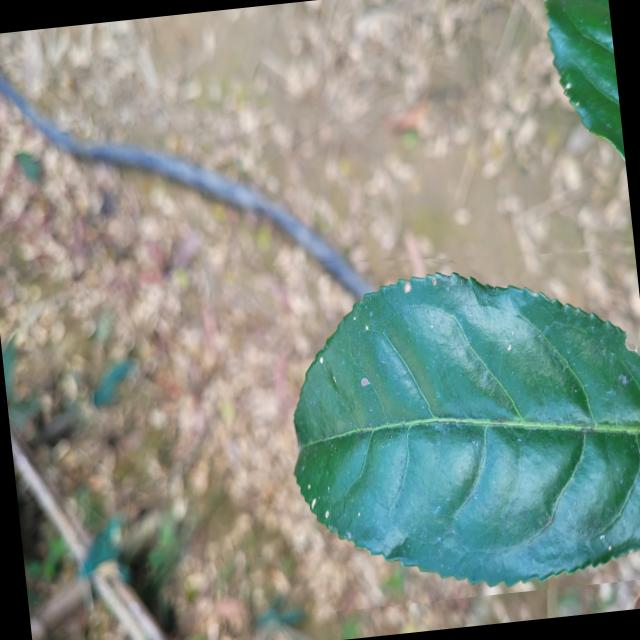Category D(7+ days, Not for Tea): (241, 224, 640, 615)
